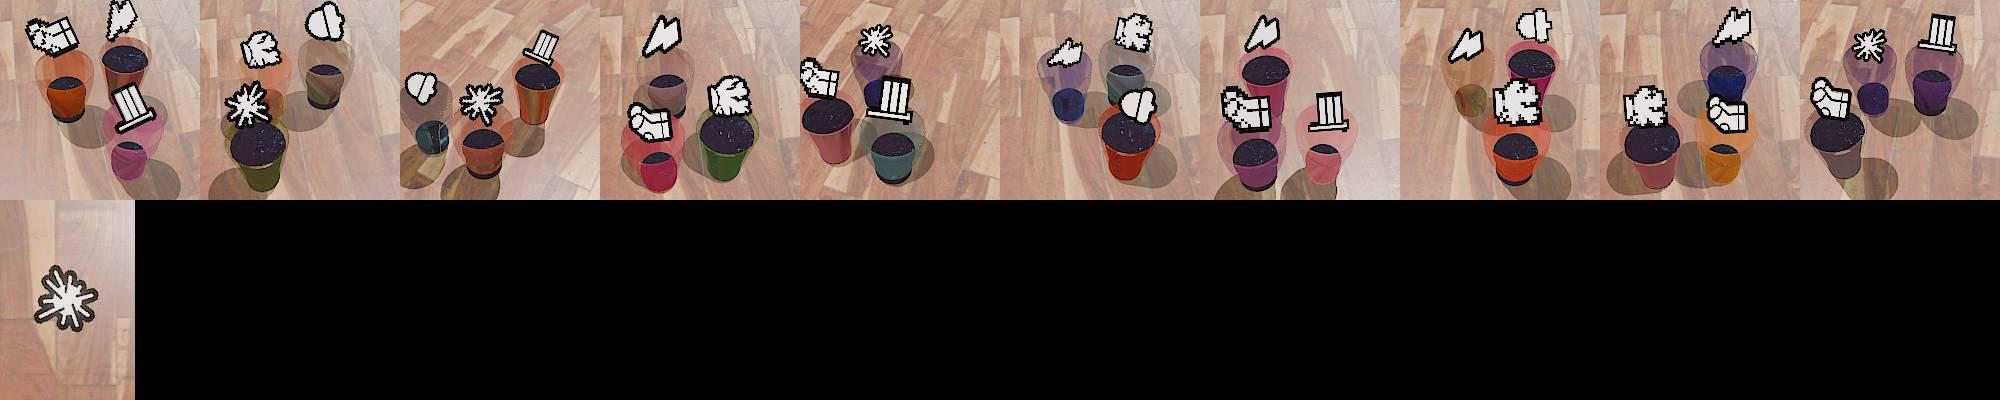icon: (32, 265, 99, 334), (108, 82, 159, 134), (1219, 83, 1273, 131), (1492, 78, 1543, 126), (24, 15, 79, 59), (223, 80, 272, 129), (458, 82, 506, 126), (707, 74, 754, 118), (872, 75, 915, 124), (1306, 88, 1351, 132), (1624, 83, 1670, 126), (626, 101, 675, 141), (798, 56, 842, 99), (1811, 75, 1853, 120), (642, 13, 682, 57), (1707, 92, 1749, 134), (304, 1, 346, 43), (1112, 11, 1153, 54), (1710, 5, 1753, 46), (1119, 85, 1159, 125), (855, 23, 897, 60), (241, 29, 281, 68), (524, 28, 562, 68), (1242, 14, 1281, 54), (1515, 6, 1554, 45), (1921, 14, 1958, 54), (106, 0, 139, 42), (1849, 28, 1888, 64), (403, 70, 439, 107), (1449, 27, 1485, 64), (1045, 37, 1085, 69)
